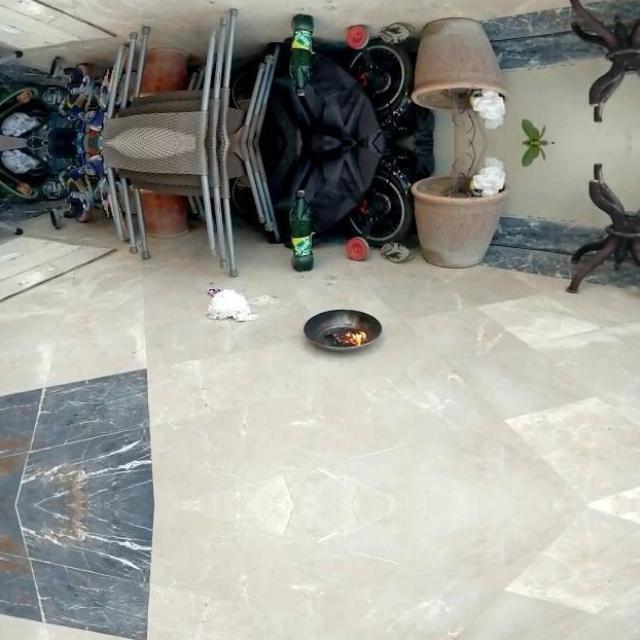smoke: (323, 326, 366, 346)
